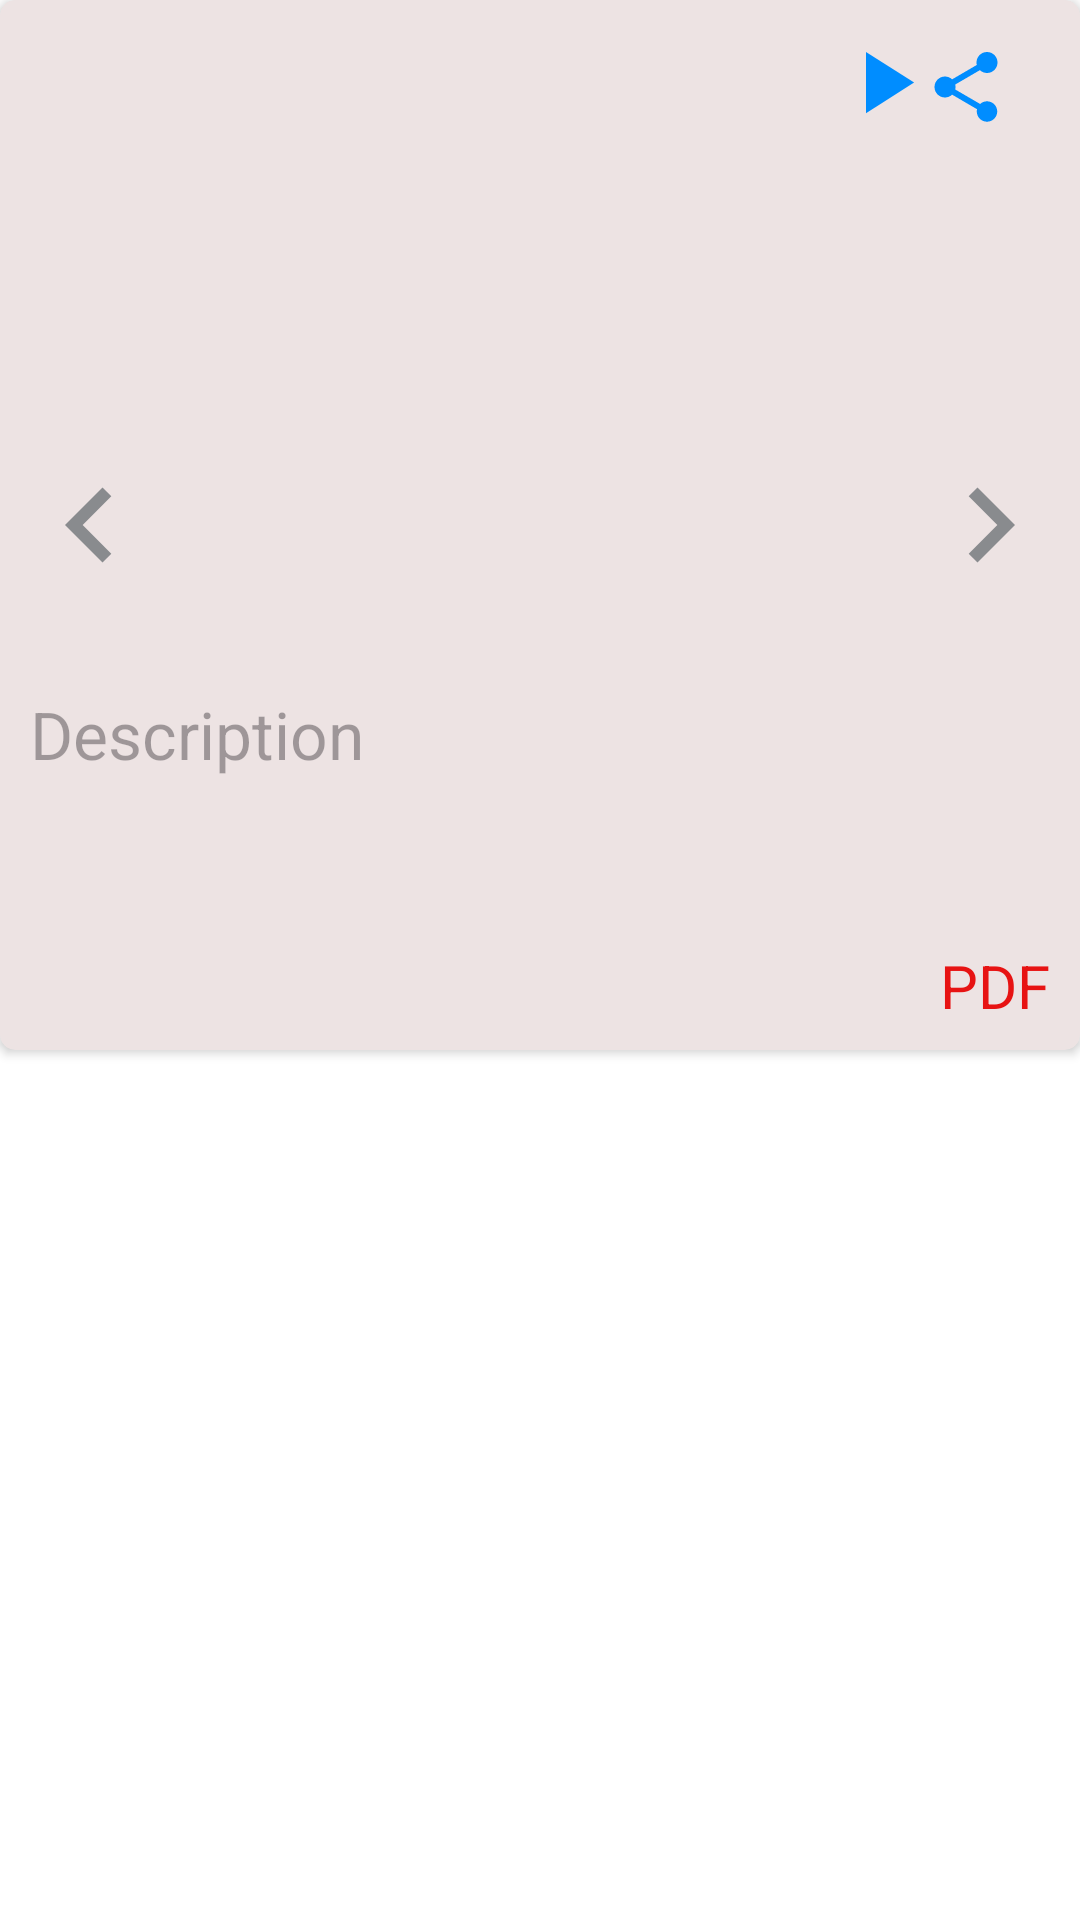

Point at icon controls on the screen. Image size 1080×1920, points as (x,y).
arrow back: (88,525)
navigate next: (992,525)
play circle: (890,82)
share: (966,87)
